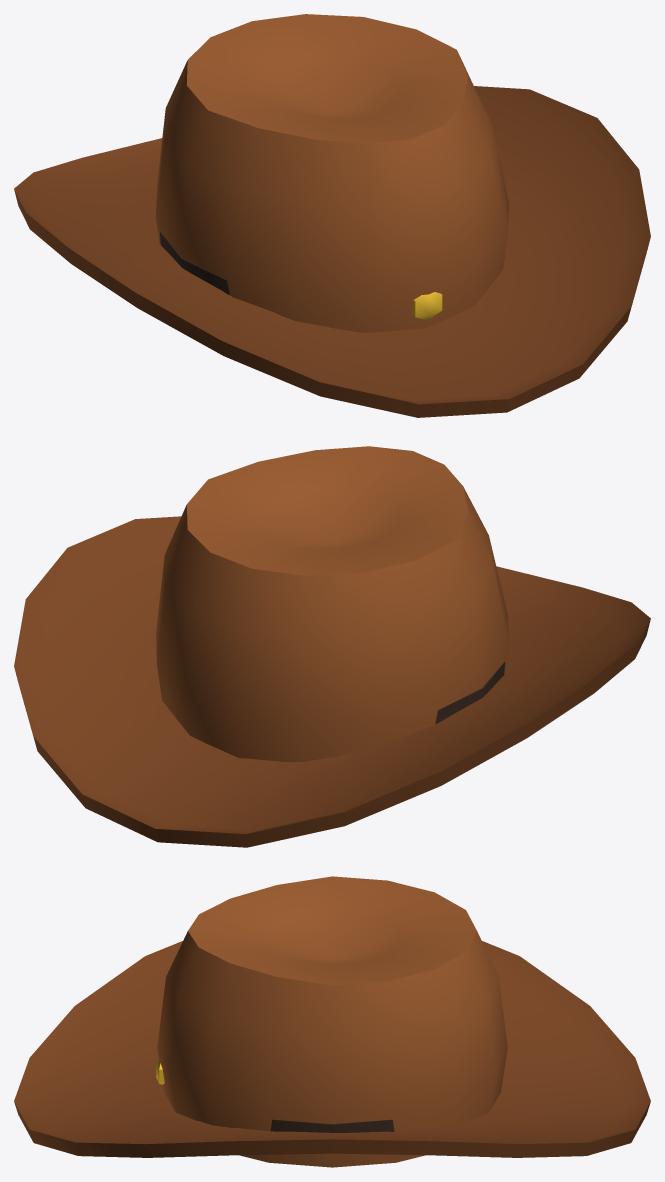
The model's file is H07_CowboyHat.fbx.
The picture shows the model from 3 angles, top to bottom: view 1: azimuth 30°, elevation 25°; view 2: azimuth 150°, elevation 25°; view 3: azimuth 270°, elevation 25°; orthographic projection. The views are drawn at different scales.
Parts seen in each view (by area): view 1: H07_CowboyHat; view 2: H07_CowboyHat; view 3: H07_CowboyHat.
Part boxes in pixels (left/top/right/bottom): H07_CowboyHat: left=14, top=14, right=650, bottom=417; H07_CowboyHat: left=14, top=446, right=650, bottom=847; H07_CowboyHat: left=14, top=876, right=650, bottom=1167.
Bounding box in the file's own units: 0.703 × 0.2593 × 0.814.
